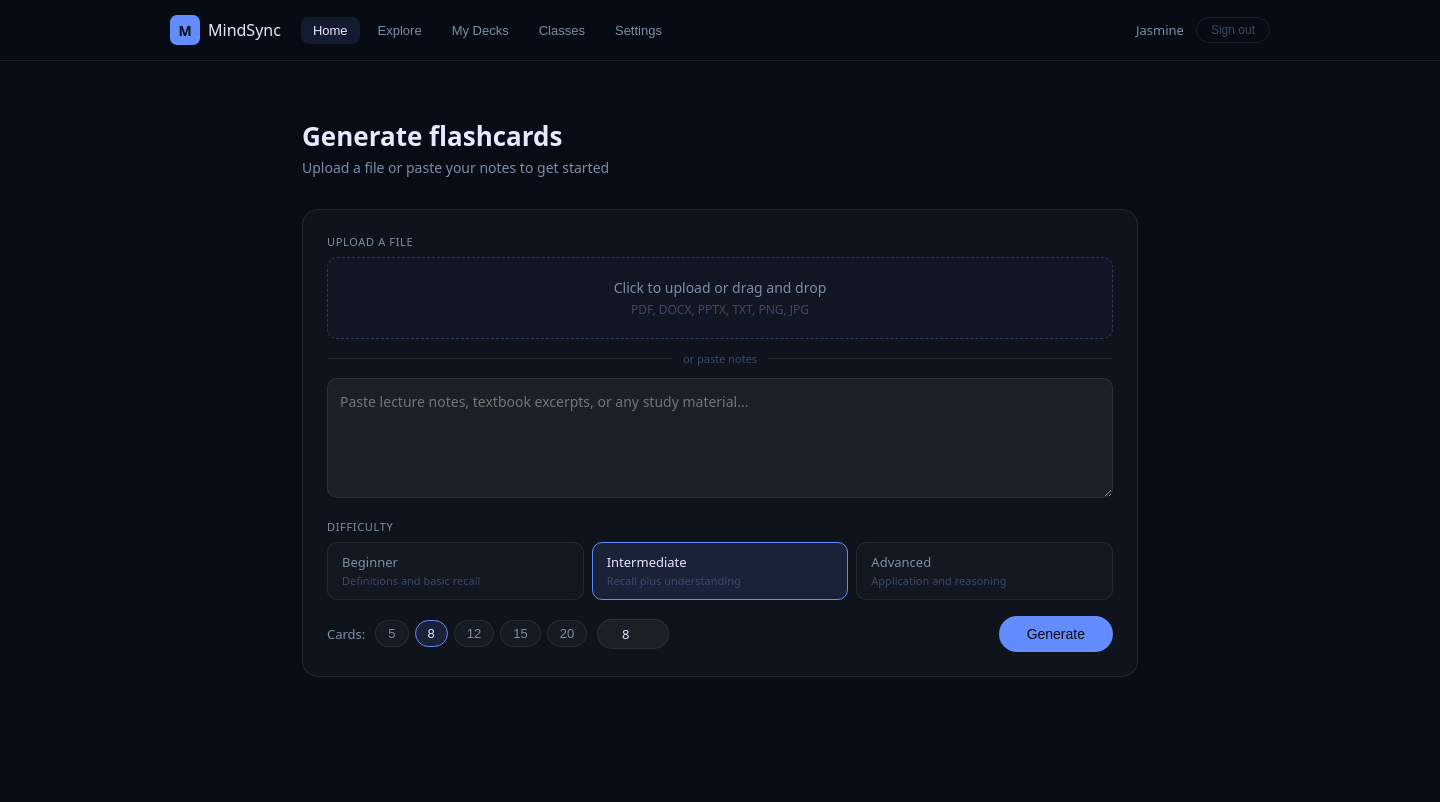
it: navigation › Explore page filters decks by search term
Click the button "Explore": point(400, 30) [366,16,434,44]
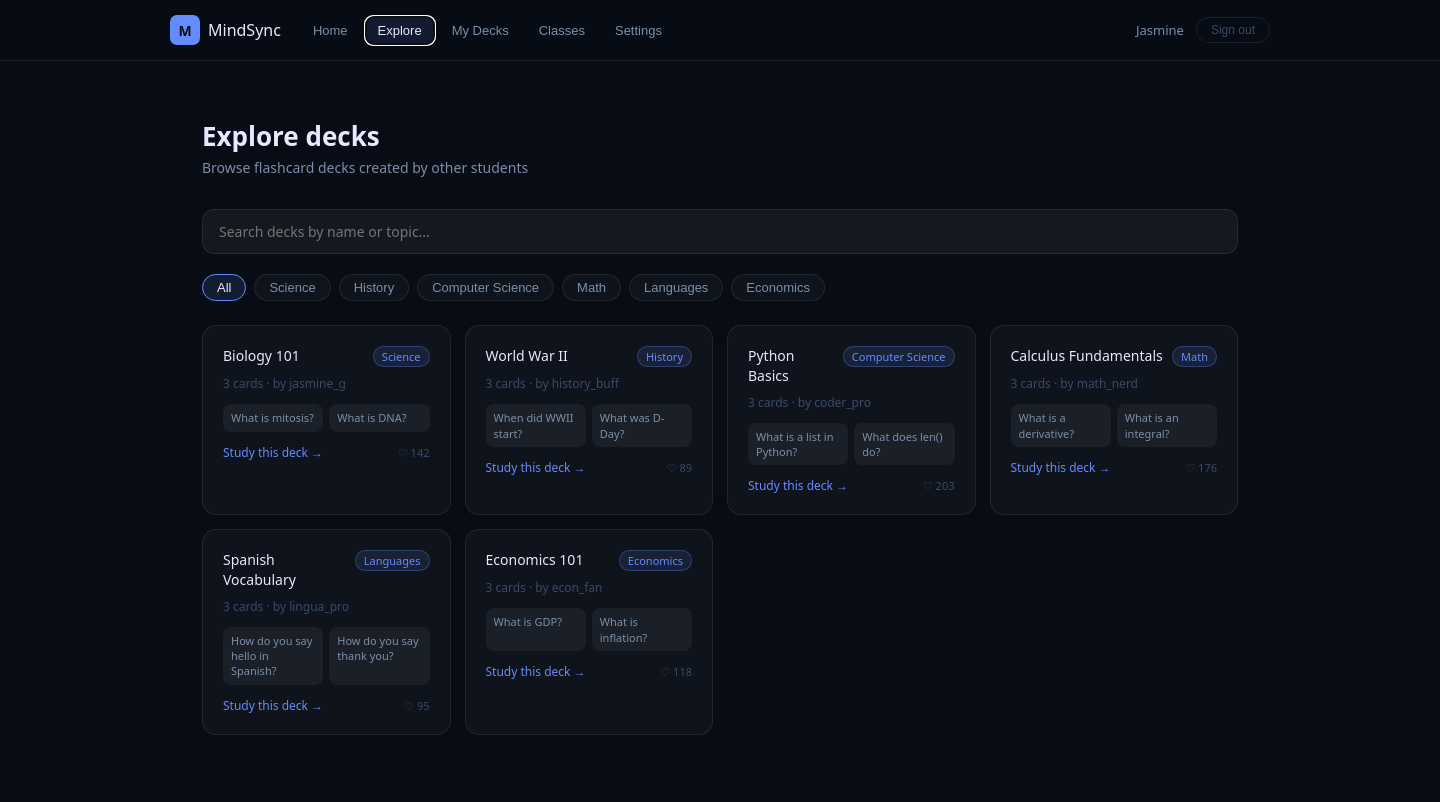
In the field with placeholder "Search decks by name or topic...": point(720, 232) [202,209,1238,254], type "python"
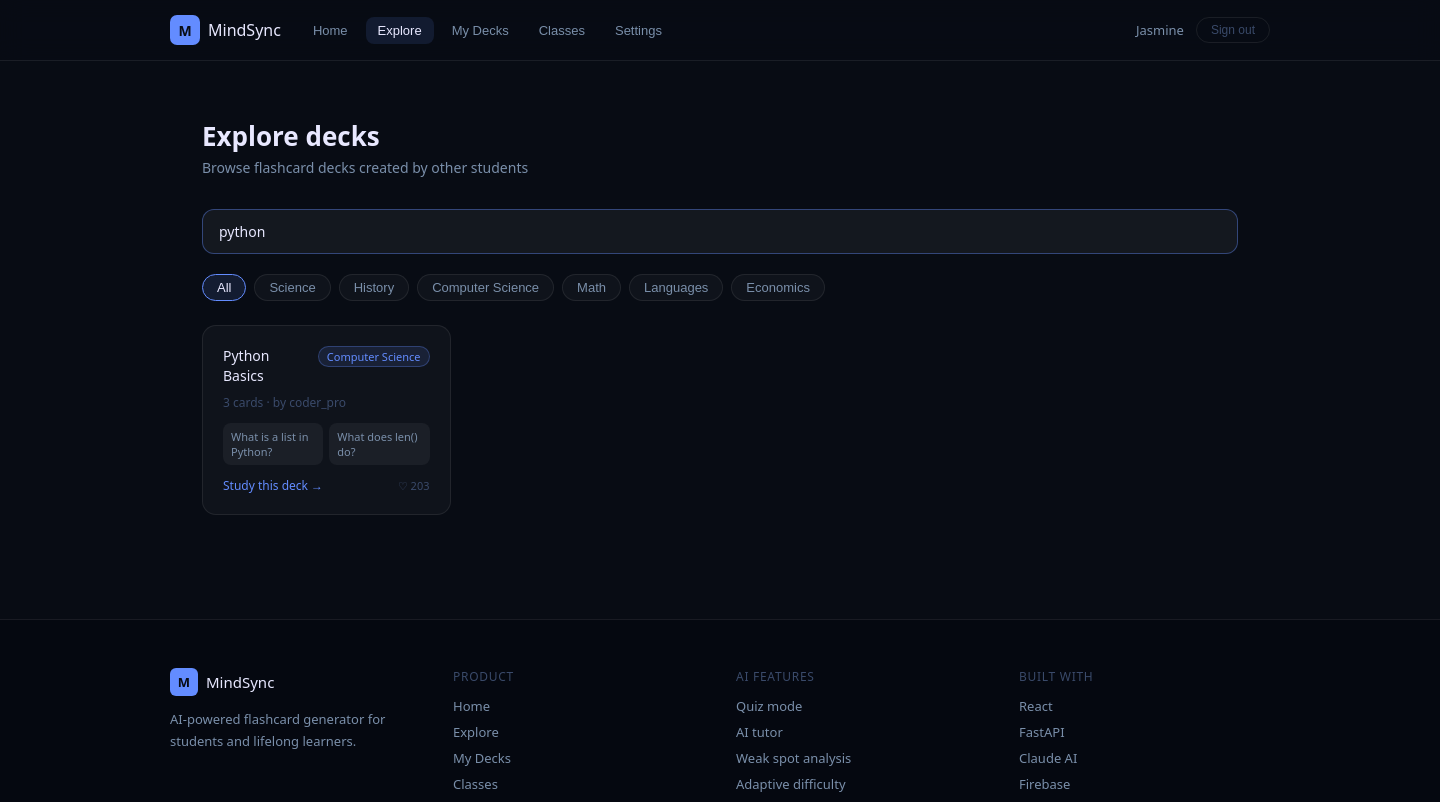
expect the text "Python Basics" is shown: met, box [223,346,270,385]
expect the text "Biology 101" is gone: met
